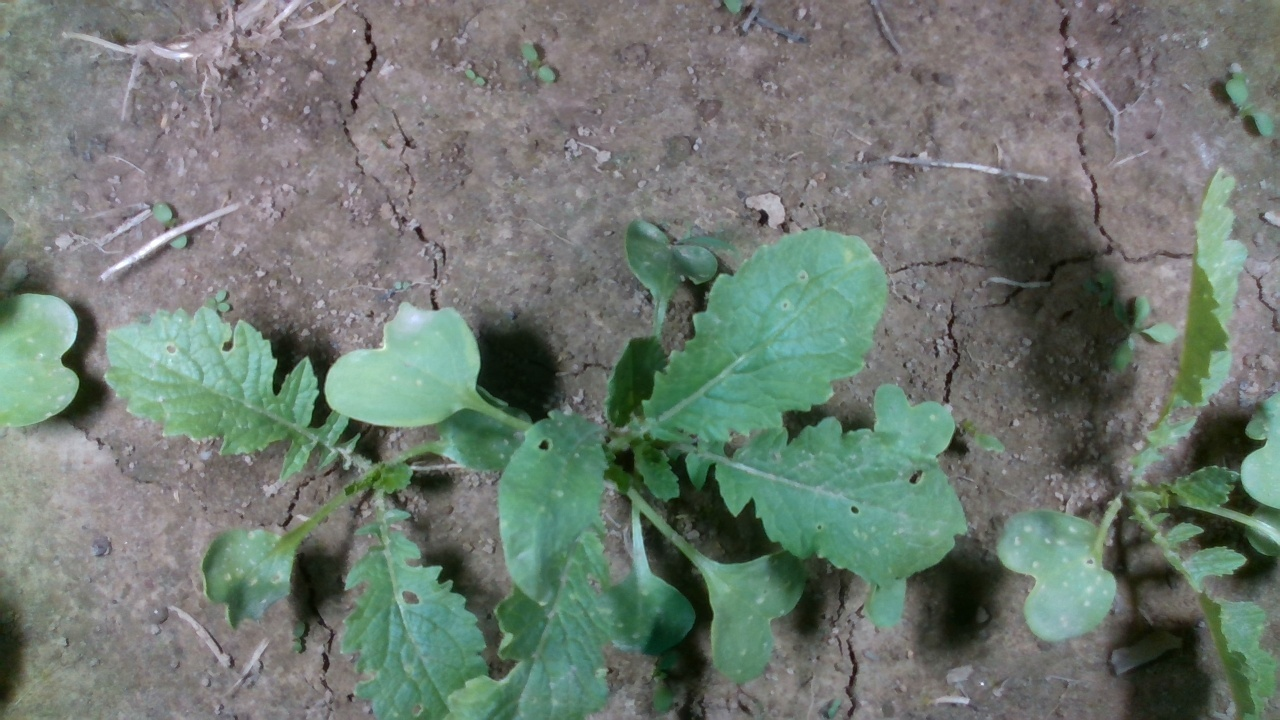weed: (1225, 77, 1275, 139), (518, 41, 557, 82), (462, 67, 486, 87)
